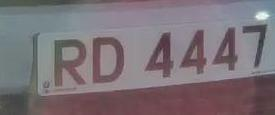4: (140, 25, 181, 86), (176, 22, 212, 83), (209, 21, 244, 77)
7: (239, 17, 275, 76)
D: (86, 32, 131, 88)
R: (47, 34, 91, 90)
